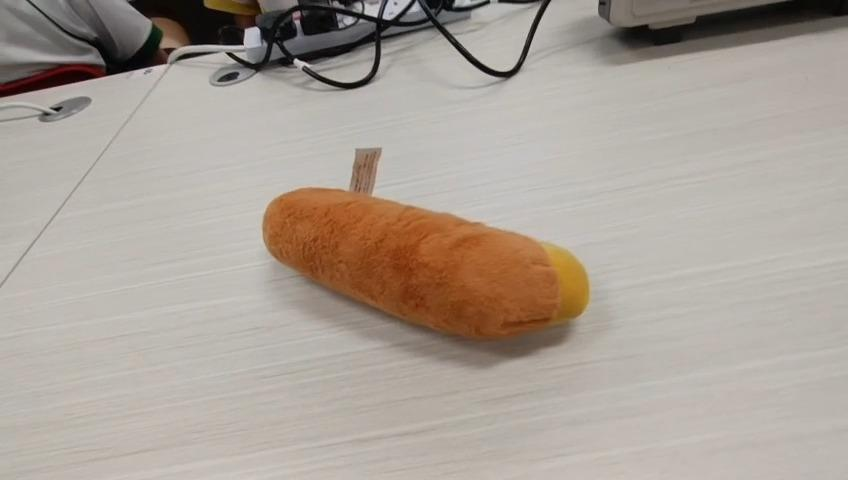hotdog: (261, 185, 590, 341)
